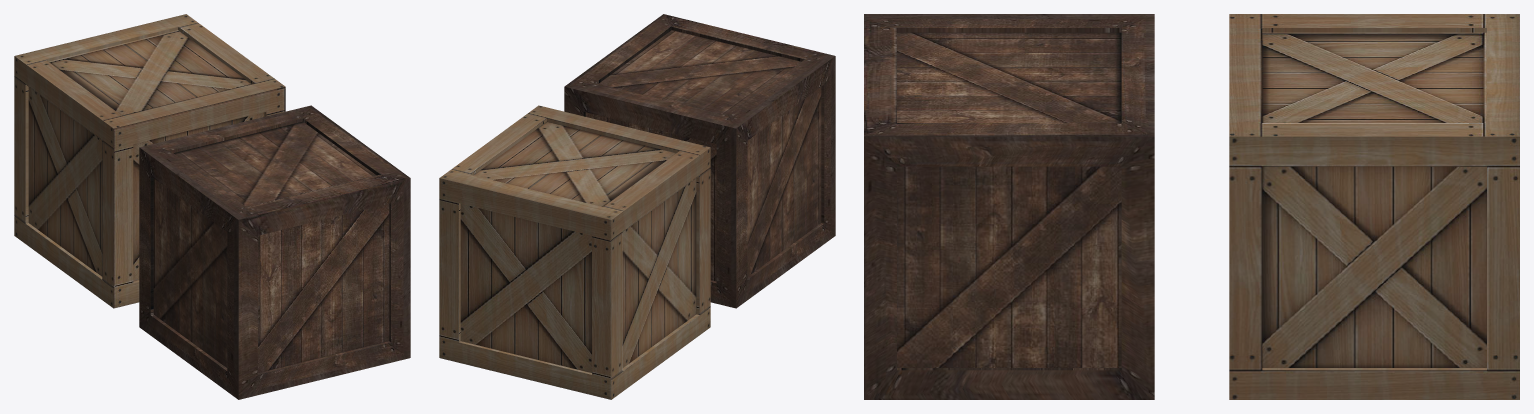
The model's file is Wooden Boxes.fbx.
The picture shows the model from 3 angles, left to right: view 1: azimuth 30°, elevation 25°; view 2: azimuth 150°, elevation 25°; view 3: azimuth 270°, elevation 25°; orthographic projection. The views are drawn at different scales.
Visible parts, largest first — view 1: WoodBox2, WoodBox1; view 2: WoodBox1, WoodBox2; view 3: WoodBox1, WoodBox2.
Part boxes in pixels (x1,y1,x2,y2): WoodBox2: [139, 105, 410, 399]; WoodBox1: [14, 14, 285, 308]; WoodBox1: [439, 105, 710, 399]; WoodBox2: [564, 14, 835, 308]; WoodBox1: [1229, 14, 1519, 399]; WoodBox2: [864, 14, 1154, 399].
Size of the model in its own units: 200 by 200 by 452.
